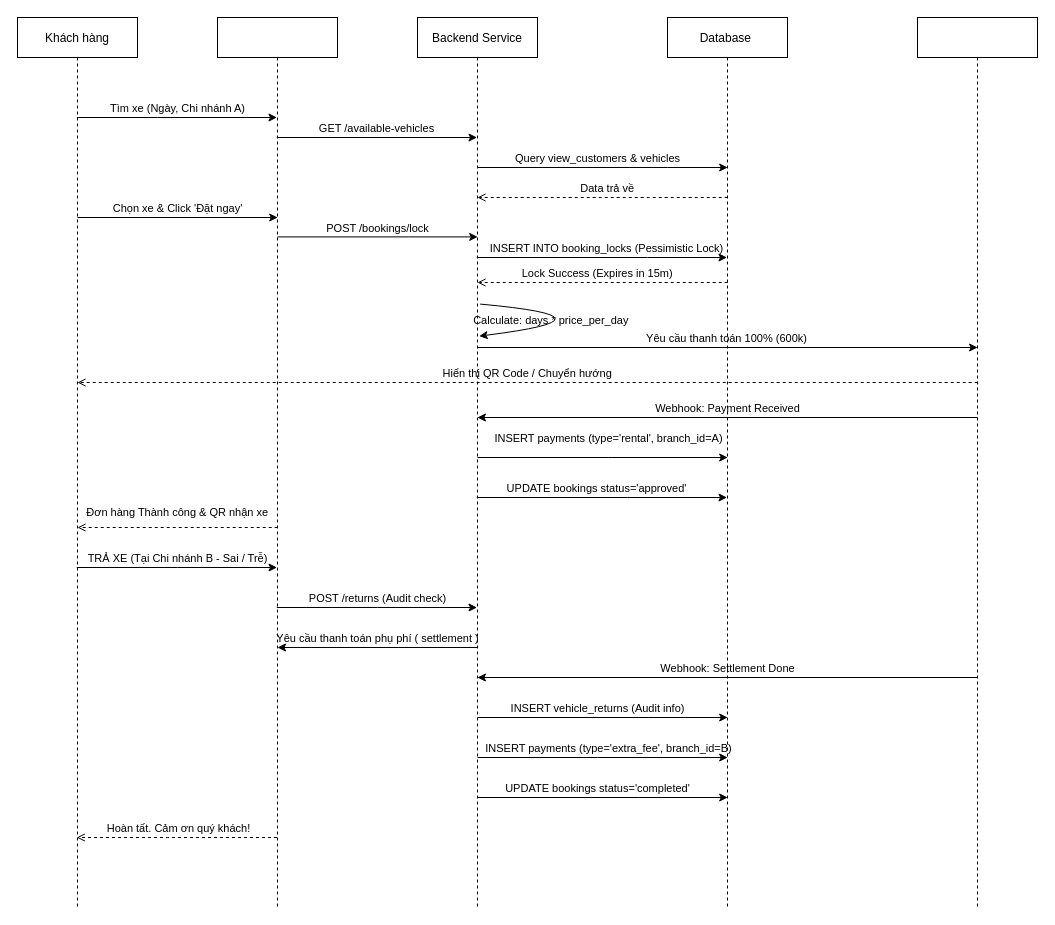
This 1055x925 diagram has some shape labels left out. The box of each missing label's shape, as (x1, y1, x2, y2) in pixels:
Payment Gateway: (916, 16, 1038, 908)
Web/App Frontend: (216, 16, 338, 908)
